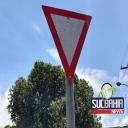preferencia: (40, 2, 96, 90)
